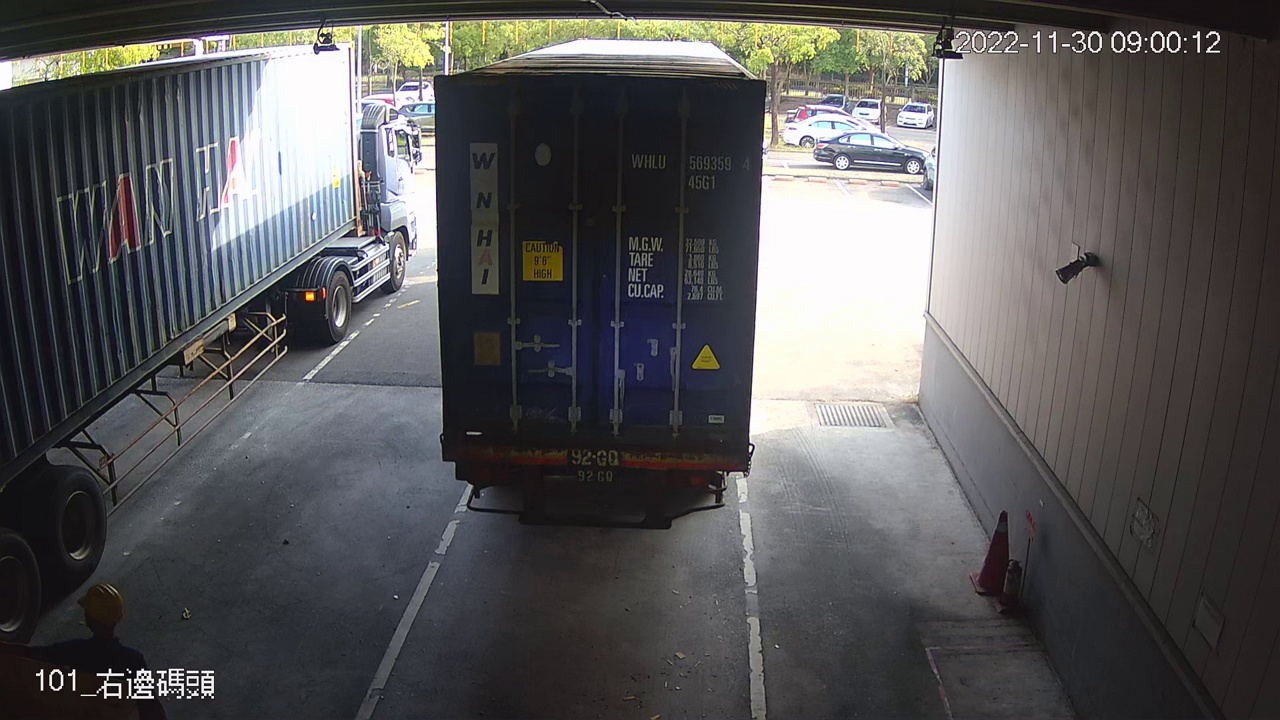container: (627, 147, 757, 196)
